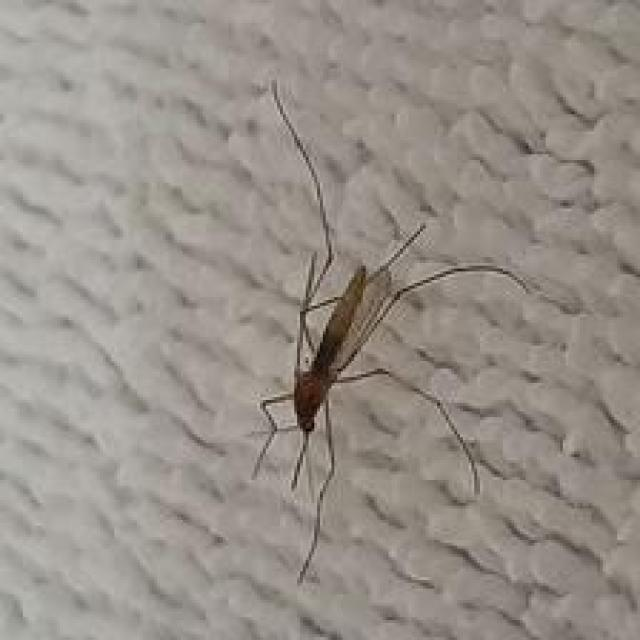Culex: (247, 76, 584, 587)
